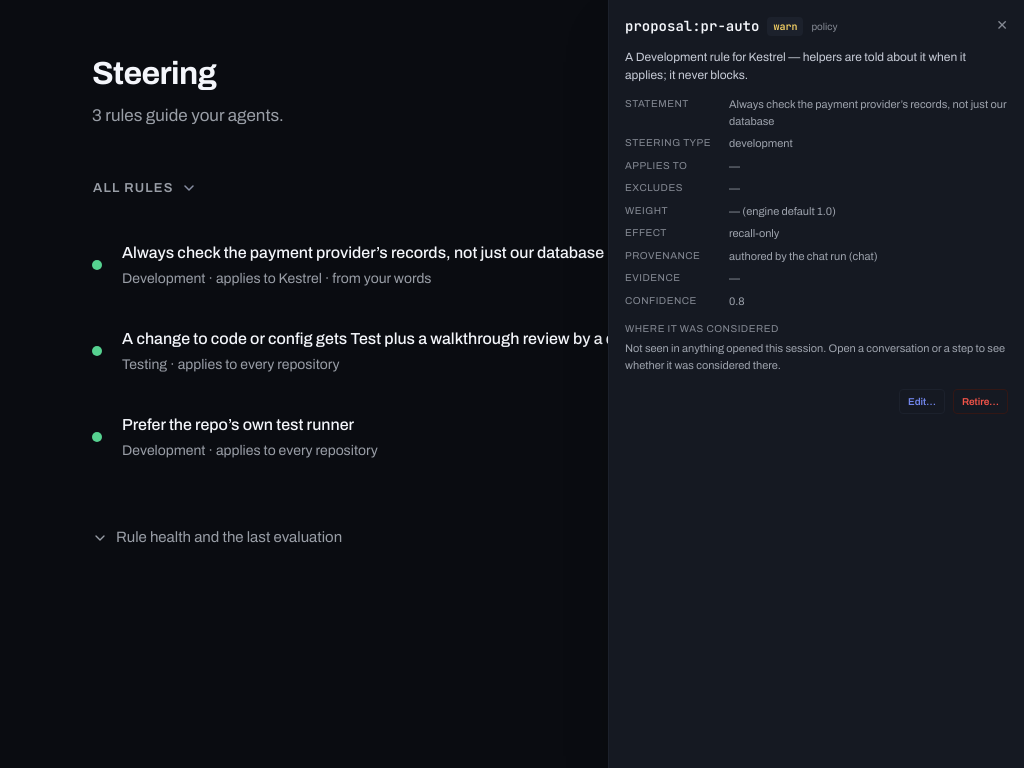
the page › the editor belongs to the address: Back to the list (or another rule) closes an open edit form (codex r1)
The width and height of the screenshot is (1024, 768).
Click the button with test id "steering-edit-open".
click(922, 402)  # box [899, 389, 945, 414]
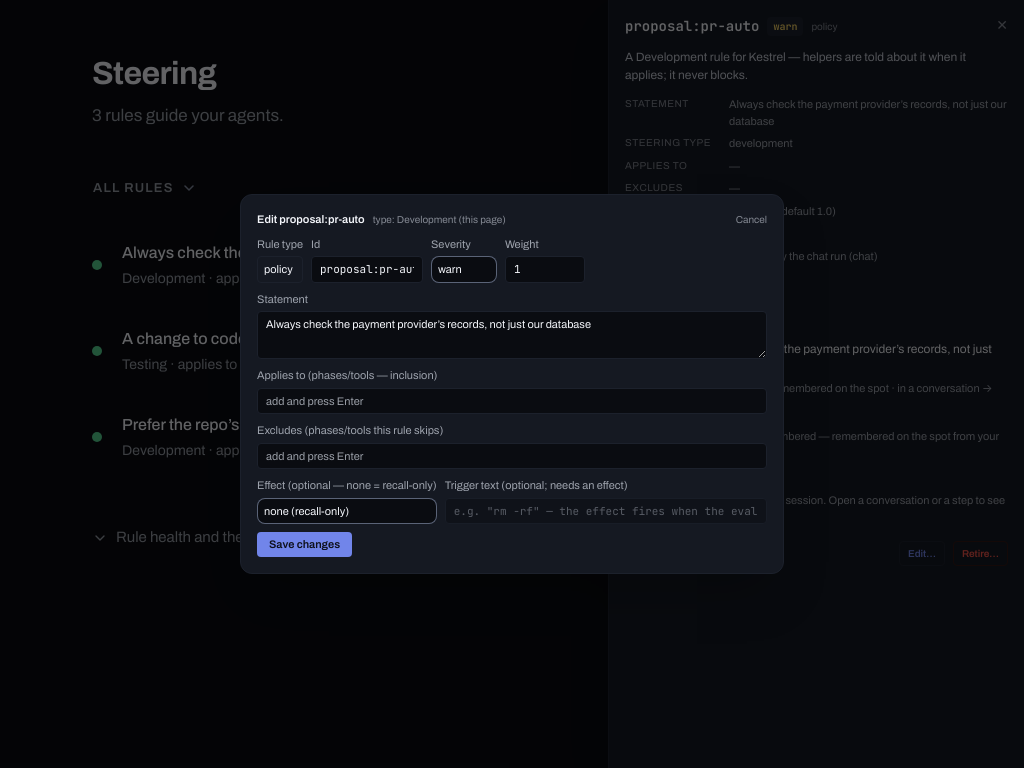
Expected: the dialog with test id "steering-rule-form" is shown, [240, 194, 784, 574]
